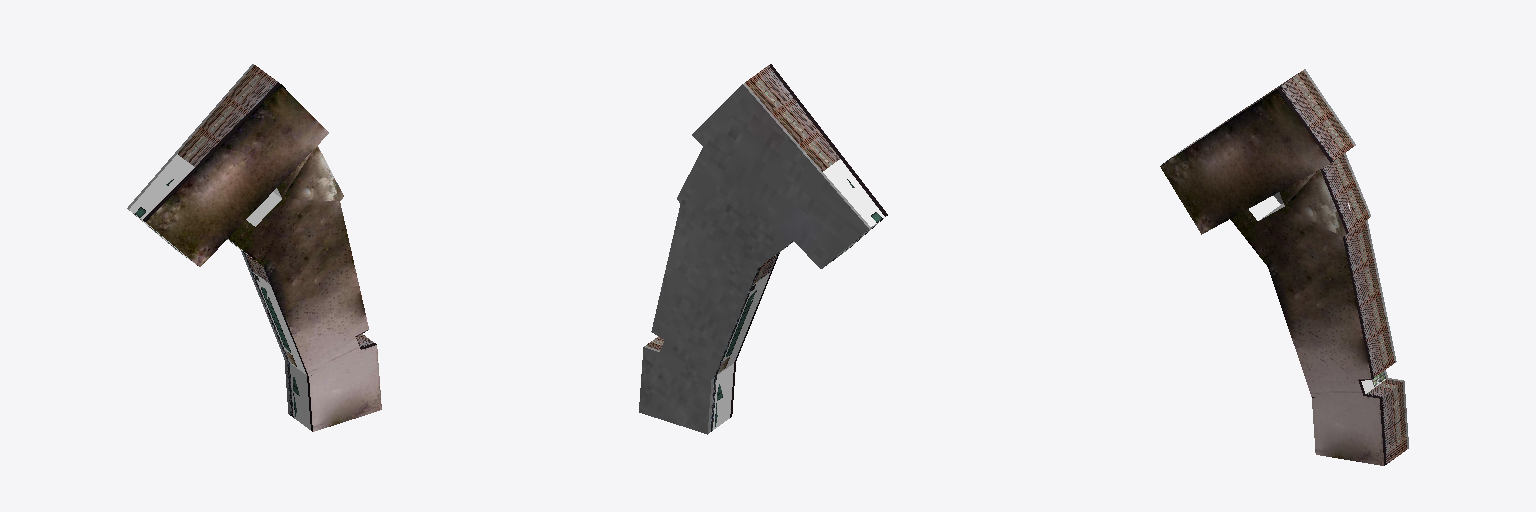
3 views of the same model, side by side, from view 1: azimuth 30°, elevation 25°; view 2: azimuth 150°, elevation 25°; view 3: azimuth 330°, elevation 25° (orthographic).
Visible parts, largest first — view 1: polygon.877; view 2: polygon.877; view 3: polygon.877.
Boxes of the visible parts, box(x1,y1,x2,y2) form: polygon.877: box(127, 64, 381, 431); polygon.877: box(639, 64, 887, 434); polygon.877: box(1160, 69, 1408, 465).
Size of the model in its own units: 35.39 by 52.71 by 7.46.
Materials: 1 (1 with a texture image).